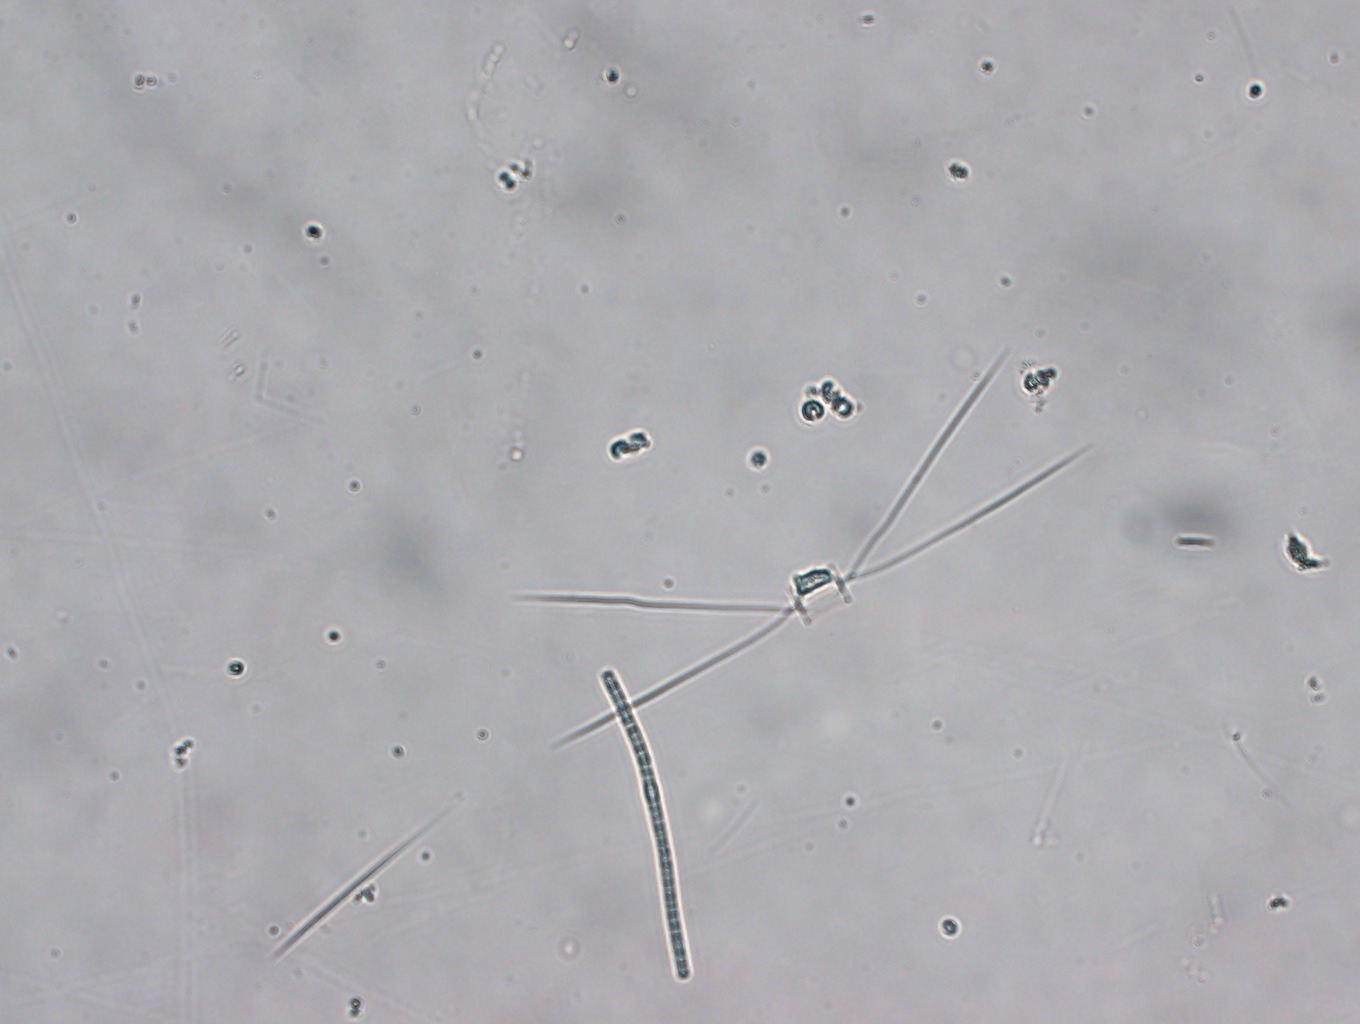chaetoceros: (507, 333, 1102, 750)
